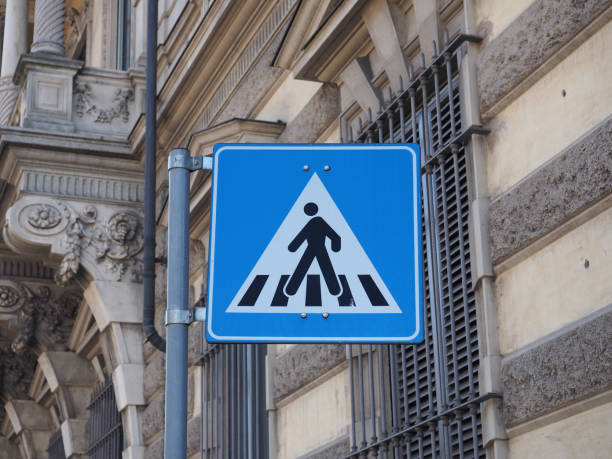yaya_gecidi_levha: (209, 146, 427, 345)
